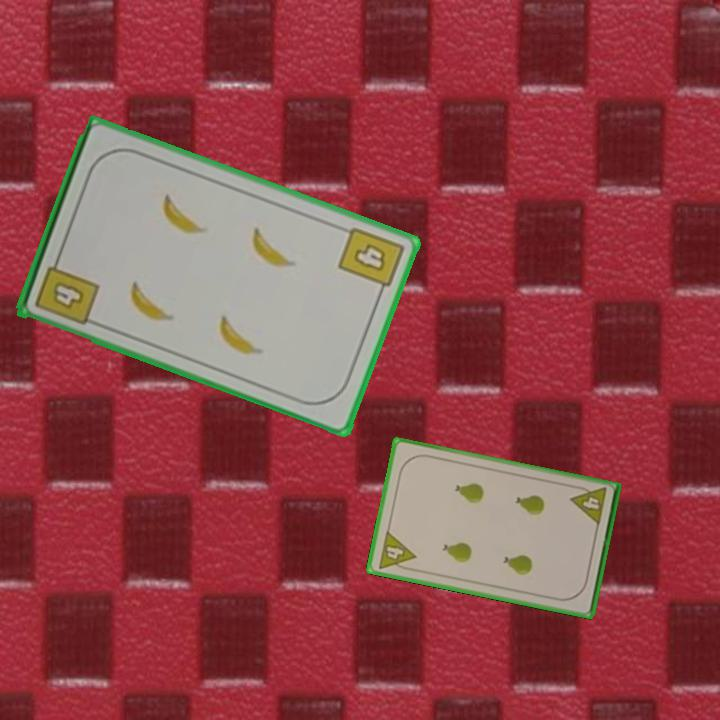4b: (334, 223, 407, 300), (31, 251, 102, 328)
4p: (374, 527, 418, 574), (567, 482, 609, 528)
